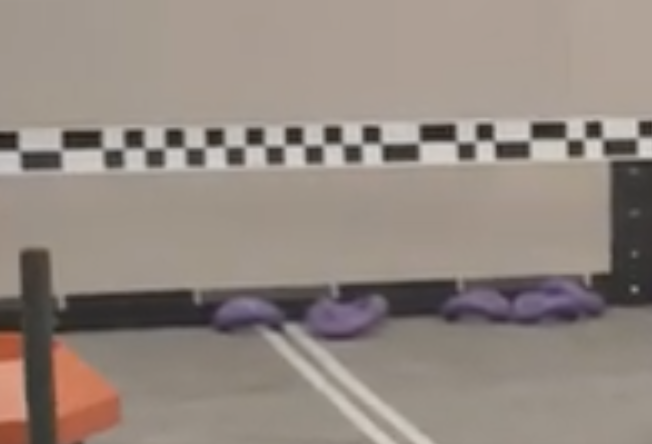ring: (307, 295, 389, 338), (210, 293, 284, 333), (441, 286, 511, 325), (541, 276, 606, 317), (511, 290, 577, 324)
